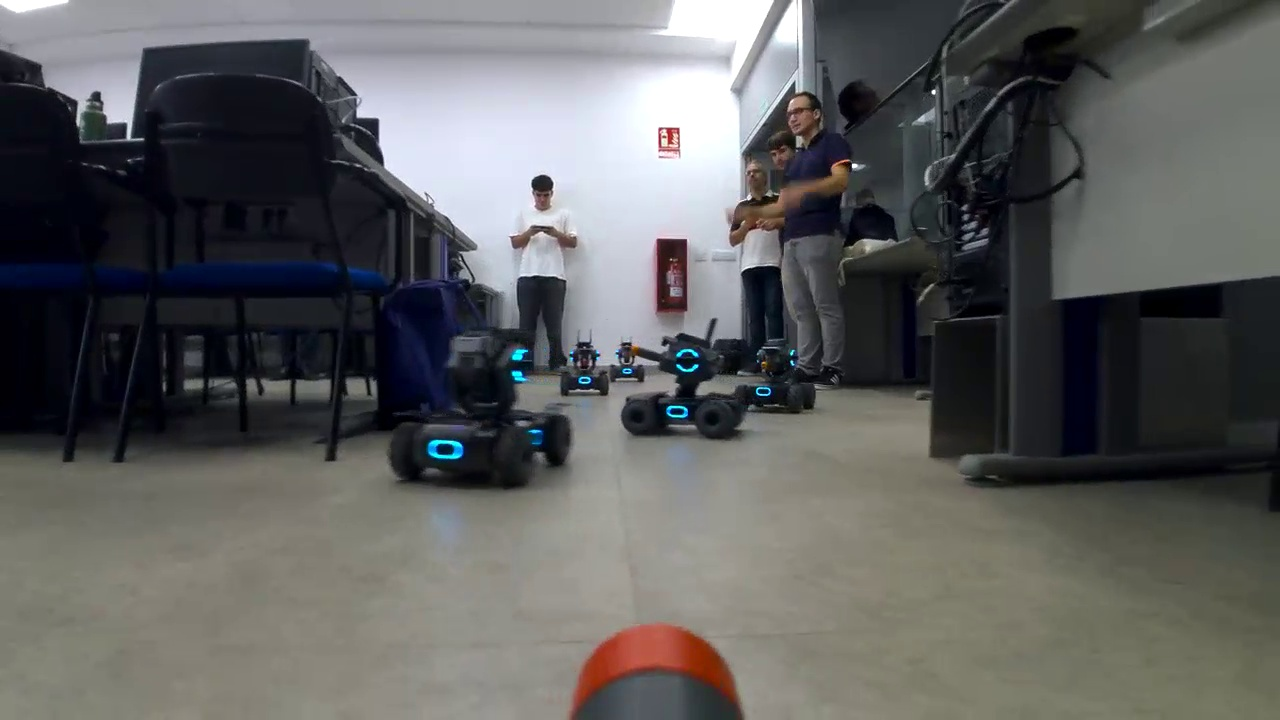robot: (383, 320, 579, 492), (615, 328, 752, 441), (731, 337, 820, 416), (557, 336, 611, 398), (607, 335, 650, 385)
